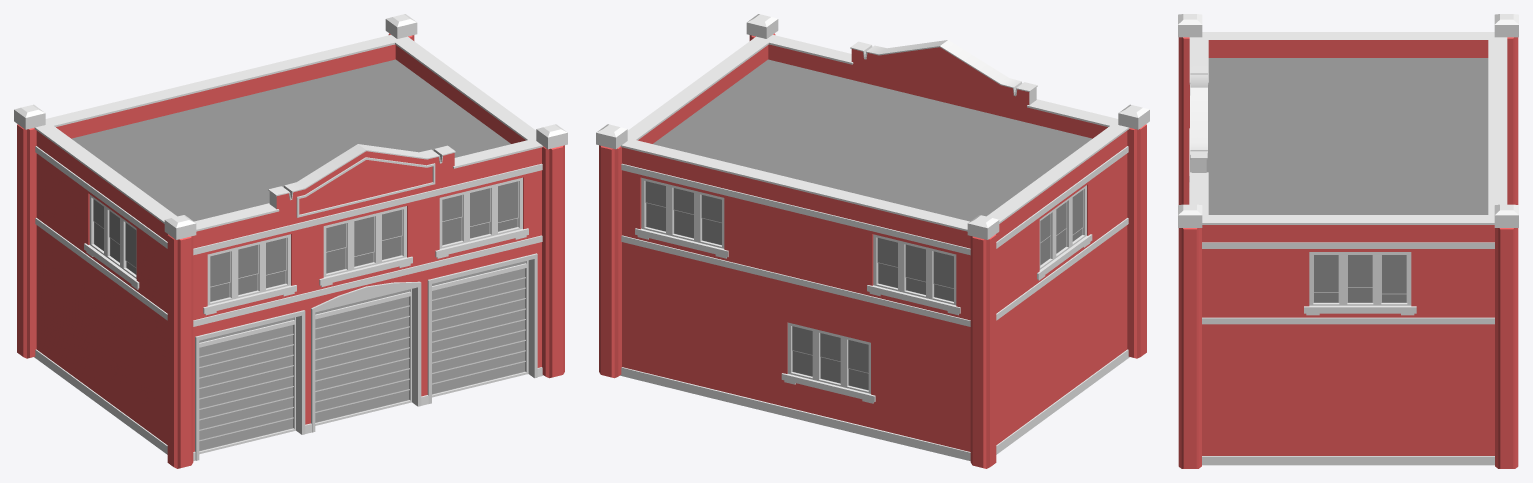
Rendered from SM_Firestation_01.FBX.
The picture shows the model from 3 angles, left to right: view 1: azimuth 30°, elevation 25°; view 2: azimuth 150°, elevation 25°; view 3: azimuth 270°, elevation 25°; orthographic projection. The views are drawn at different scales.
Visible parts, largest first — view 1: SM_Firestation_01; view 2: SM_Firestation_01; view 3: SM_Firestation_01.
Part boxes in pixels (x1,y1,x2,y2): SM_Firestation_01: (14,14,567,468); SM_Firestation_01: (596,14,1149,468); SM_Firestation_01: (1178,14,1518,468).
Size of the model in its own units: 8.47 by 5.56 by 6.08.
Materials: 1 (1 with a texture image).
